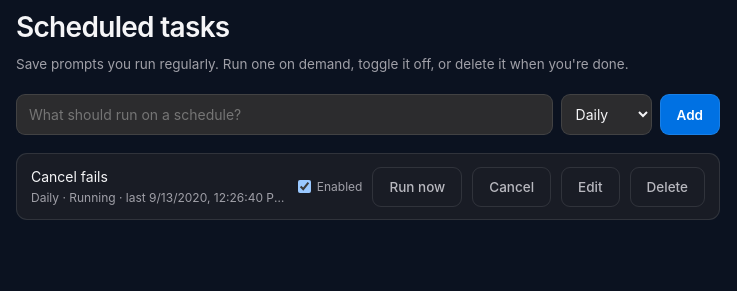
Test case: ScheduledView › surfaces an error and recovers when cancel_scheduled fails
This screenshot has width=737, height=291.
Check: the text "Cancel fails" is shown, box [31,168,108,185]
Click the button with aria-label "cancel run".
click(512, 187)  # box [472,167,551,207]
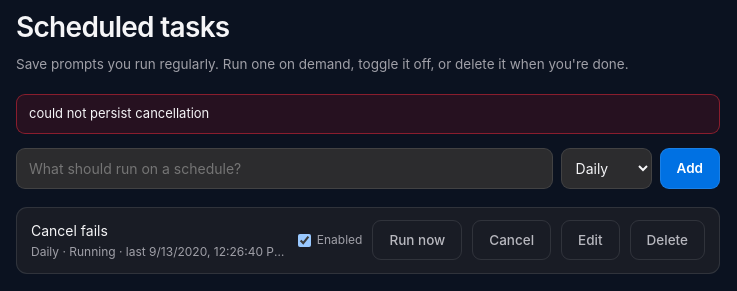
Check: the button with aria-label "cancel run" is enabled, box [472,220,551,260]
Check: the message shows "persist", box [29,105,209,121]
